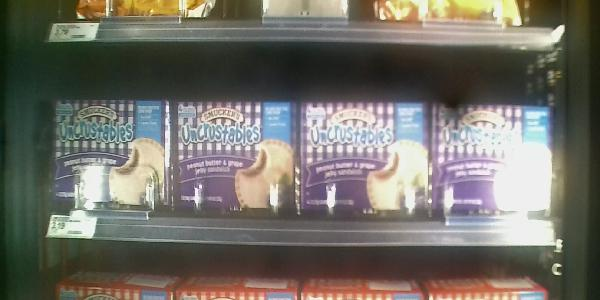icecream: (165, 95, 300, 226), (429, 86, 552, 222), (302, 98, 432, 214), (53, 95, 166, 216)
